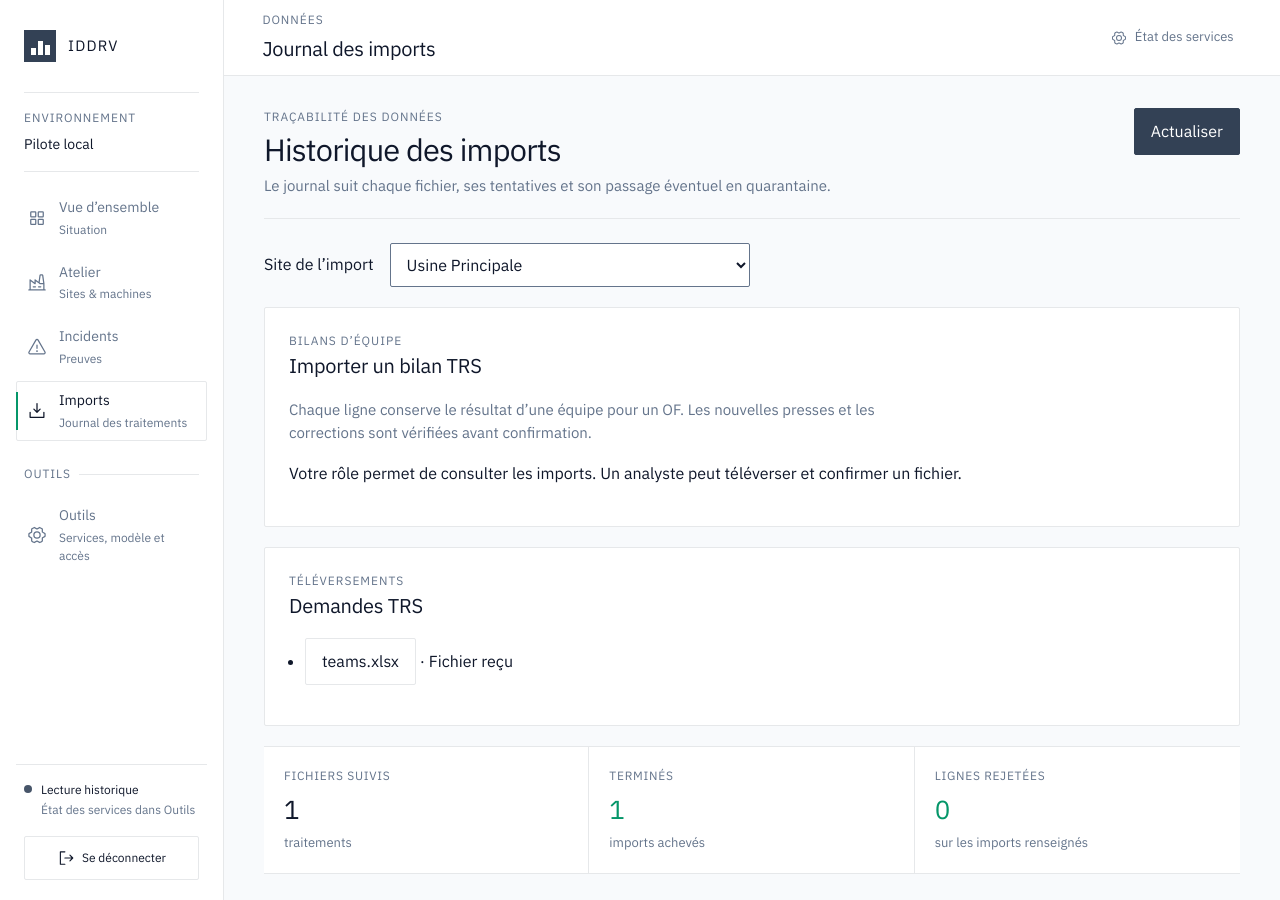
un viewer consulte un fichier non profilé sans action de préparation
Click the button "teams.xlsx": click(360, 662) 305,638 -> 416,685
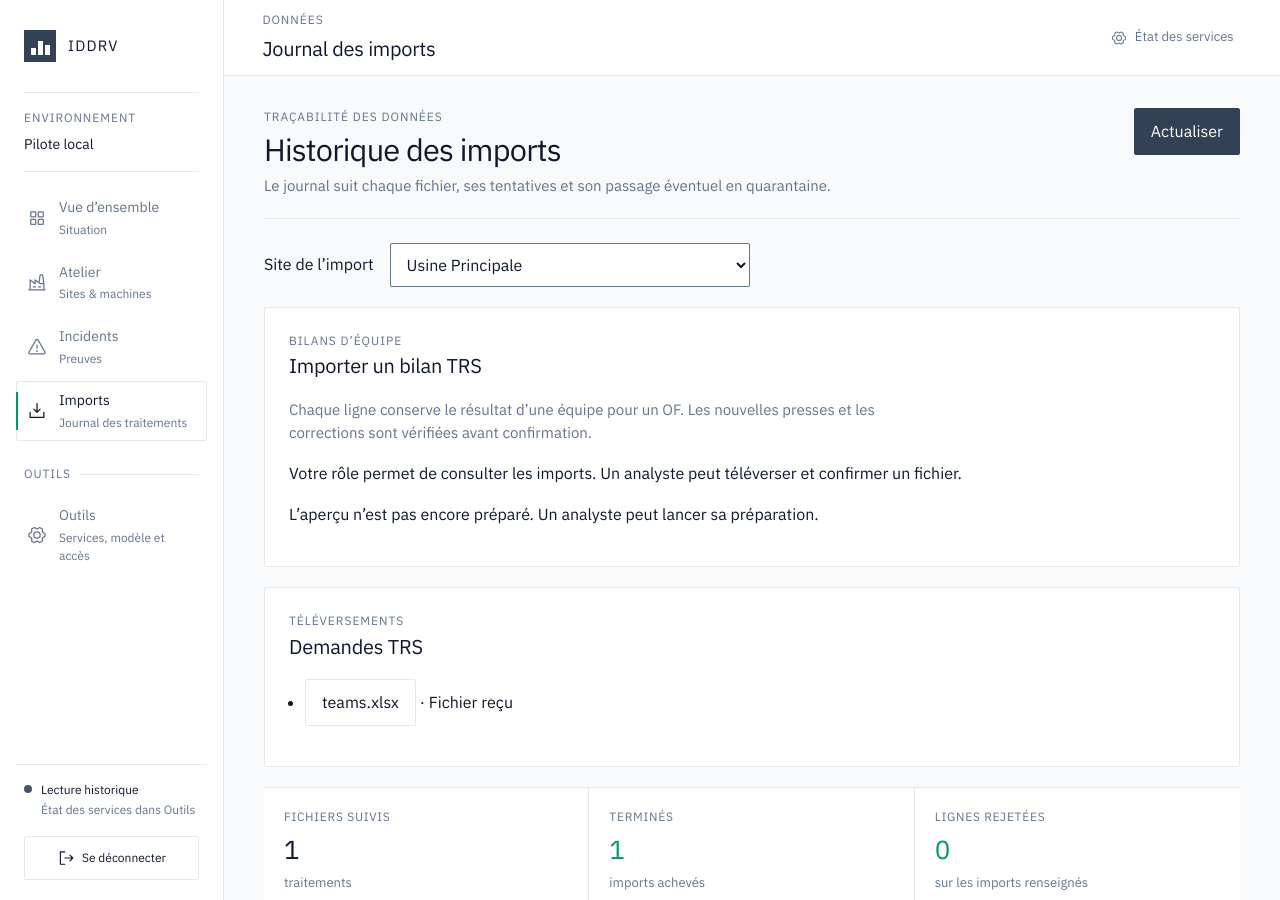
expect the text "L’aperçu n’est pas encore préparé" is shown: met, box 289,504 -> 819,524
